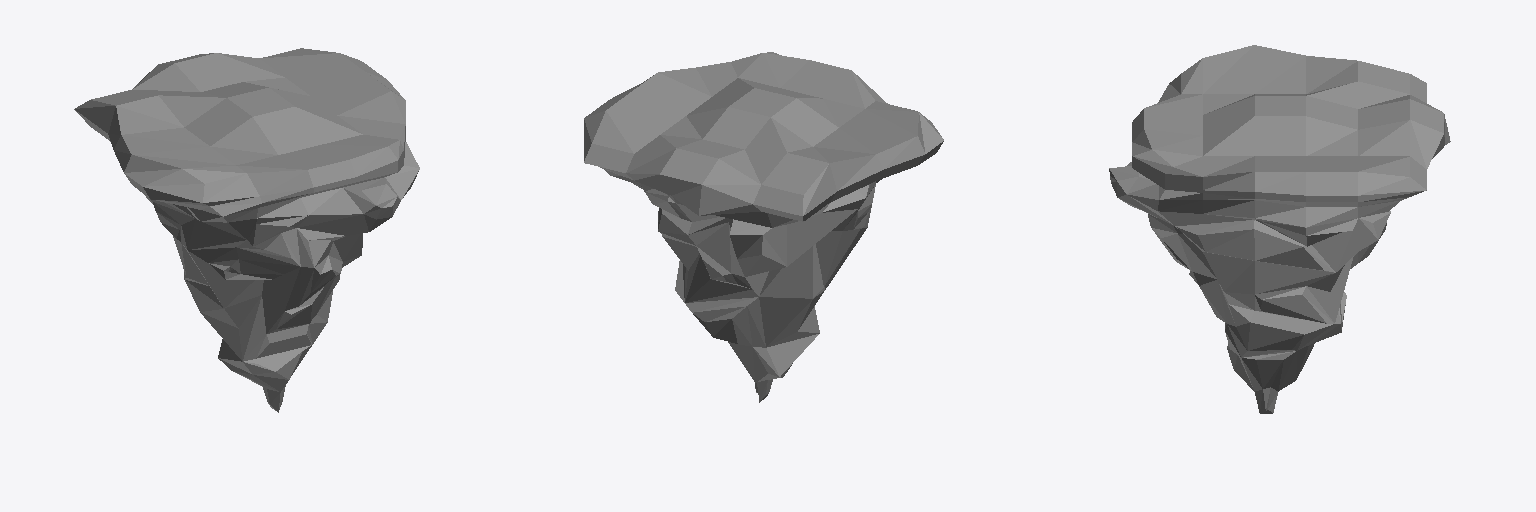
The model's file is flying_island.obj.
The picture shows the model from 3 angles: view 1: azimuth 30°, elevation 25°; view 2: azimuth 150°, elevation 25°; view 3: azimuth 270°, elevation 25°; orthographic projection.
Visible parts, largest first — view 1: Box001; view 2: Box001; view 3: Box001.
Part boxes in pixels (x1,y1,x2,y2): Box001: (74, 48, 419, 412); Box001: (584, 52, 943, 402); Box001: (1109, 45, 1450, 413).
Size of the model in its own units: 40.25 by 40.46 by 41.09.